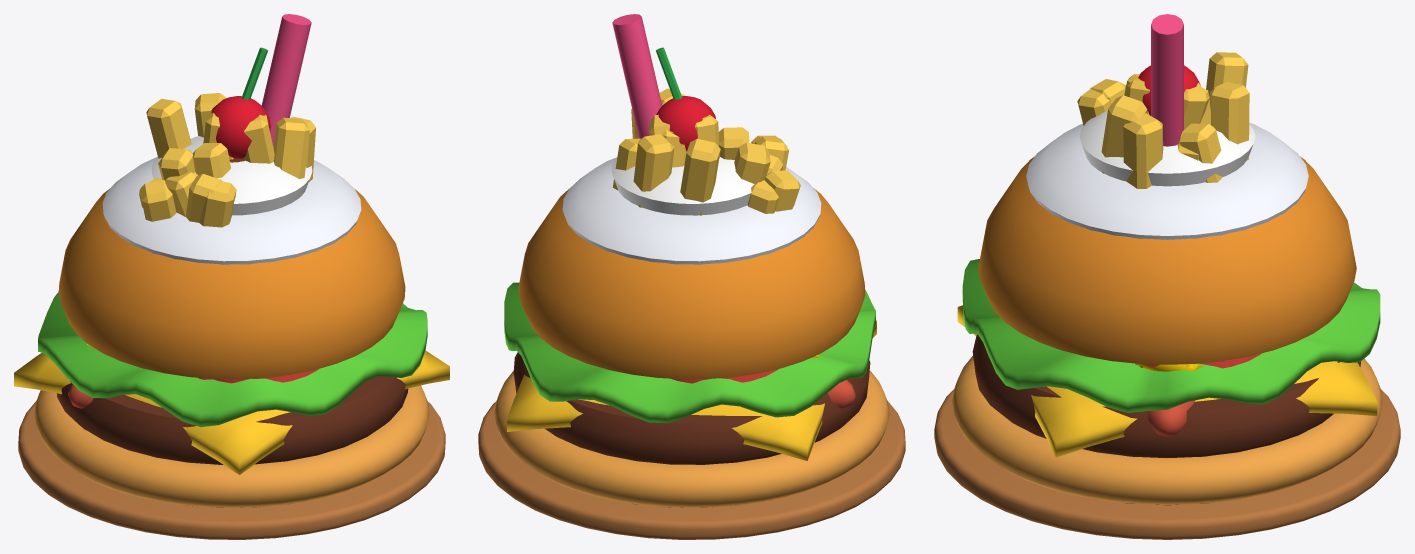
Rendered from food.glb.
The picture shows the model from 3 angles, left to right: view 1: azimuth 30°, elevation 25°; view 2: azimuth 150°, elevation 25°; view 3: azimuth 270°, elevation 25°; orthographic projection. The views are drawn at different scales.
Visible parts, largest first — view 1: food_burger, food_pizza, food_soda, food_fries, food_sundae; view 2: food_burger, food_pizza, food_soda, food_fries, food_sundae, food_hotdog; view 3: food_burger, food_pizza, food_soda, food_fries, food_sundae, food_hotdog.
Boxes of the visible parts, left/top/right/bottom form: food_burger: left=14, top=188, right=449, bottom=474; food_pizza: left=18, top=385, right=445, bottom=539; food_soda: left=102, top=14, right=361, bottom=264; food_fries: left=139, top=93, right=315, bottom=379; food_sundae: left=151, top=47, right=312, bottom=215; food_burger: left=504, top=188, right=876, bottom=464; food_pizza: left=478, top=370, right=905, bottom=539; food_soda: left=562, top=14, right=821, bottom=264; food_fries: left=612, top=88, right=800, bottom=215; food_sundae: left=611, top=47, right=754, bottom=215; food_hotdog: left=811, top=355, right=855, bottom=429; food_burger: left=957, top=156, right=1380, bottom=457; food_pizza: left=934, top=356, right=1400, bottom=539; food_soda: left=1026, top=14, right=1308, bottom=239; food_fries: left=1077, top=52, right=1249, bottom=188; food_sundae: left=1079, top=65, right=1255, bottom=186; food_hotdog: left=1135, top=363, right=1203, bottom=458.
Size of the model in its own units: 0.34 by 0.371 by 0.34.
